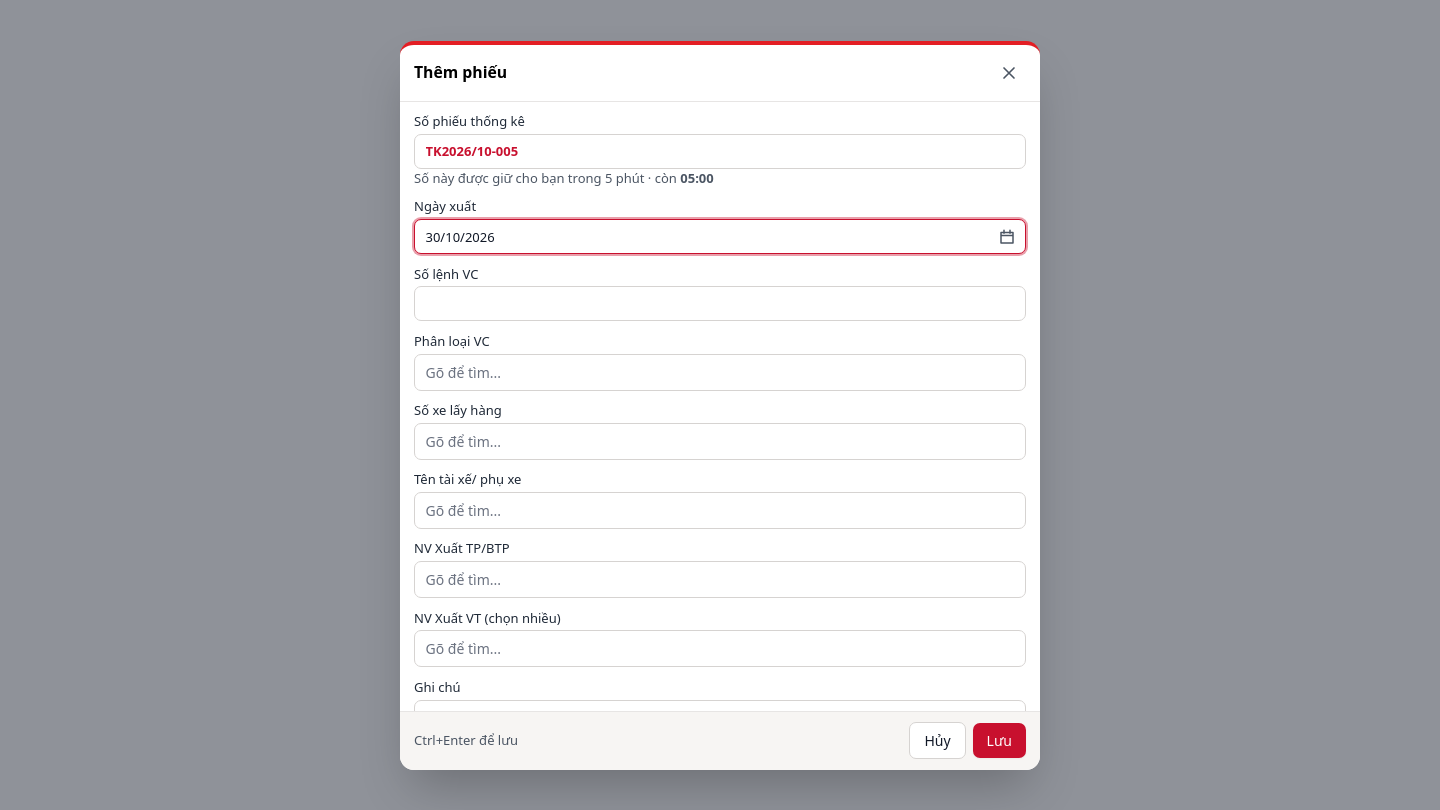
Test: PlanFormModal - tạo phiếu › chữ gõ dở ở ô chọn (chưa chọn từ danh mục) → chặn lưu
The width and height of the screenshot is (1440, 810).
Type "khong-co-xe-nay" into the dropdown with test id "vehicle" at [720, 441], box [414,423,1026,460]
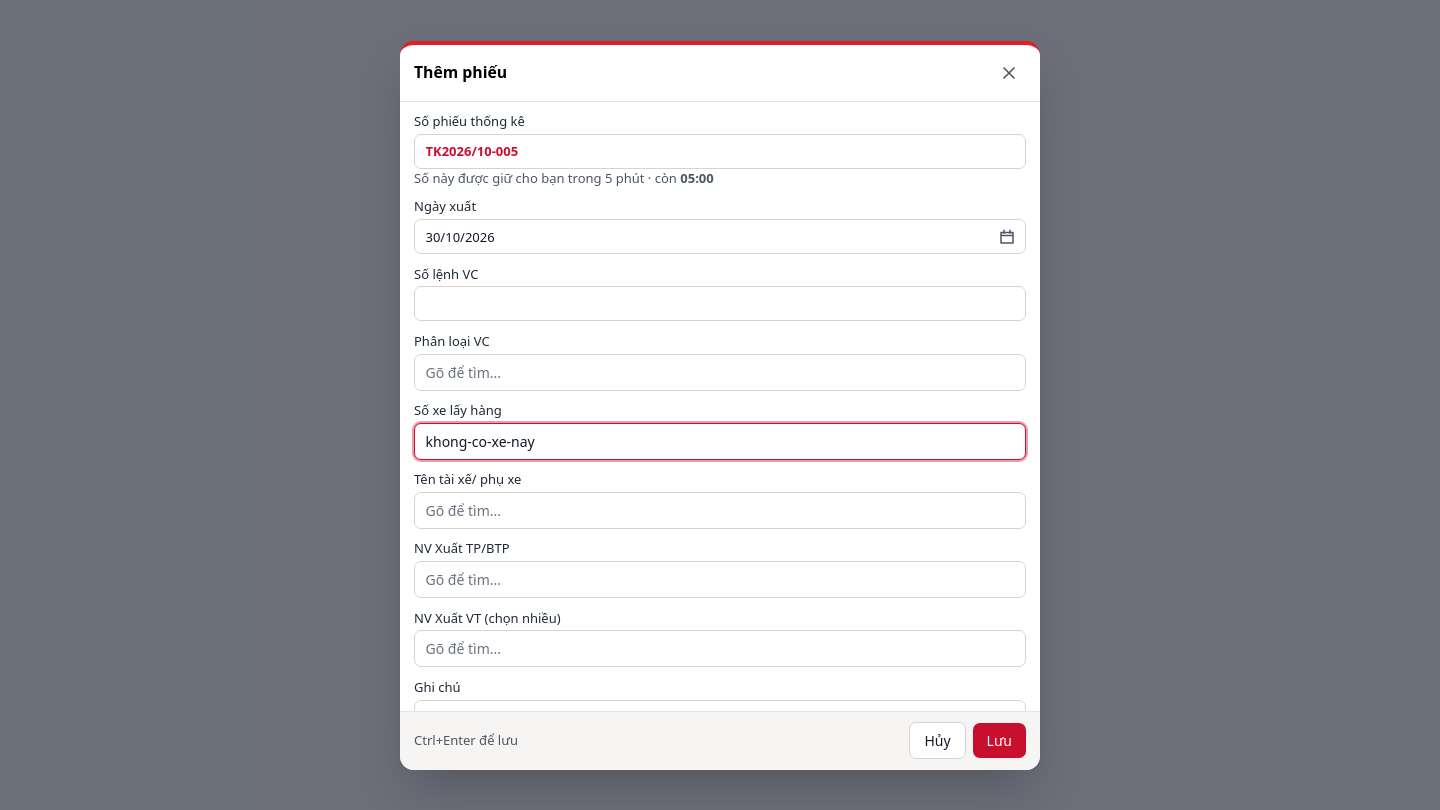
Click the button with test id "plan-save" at [999, 740], box [973,723,1026,758]
(page scrolled)
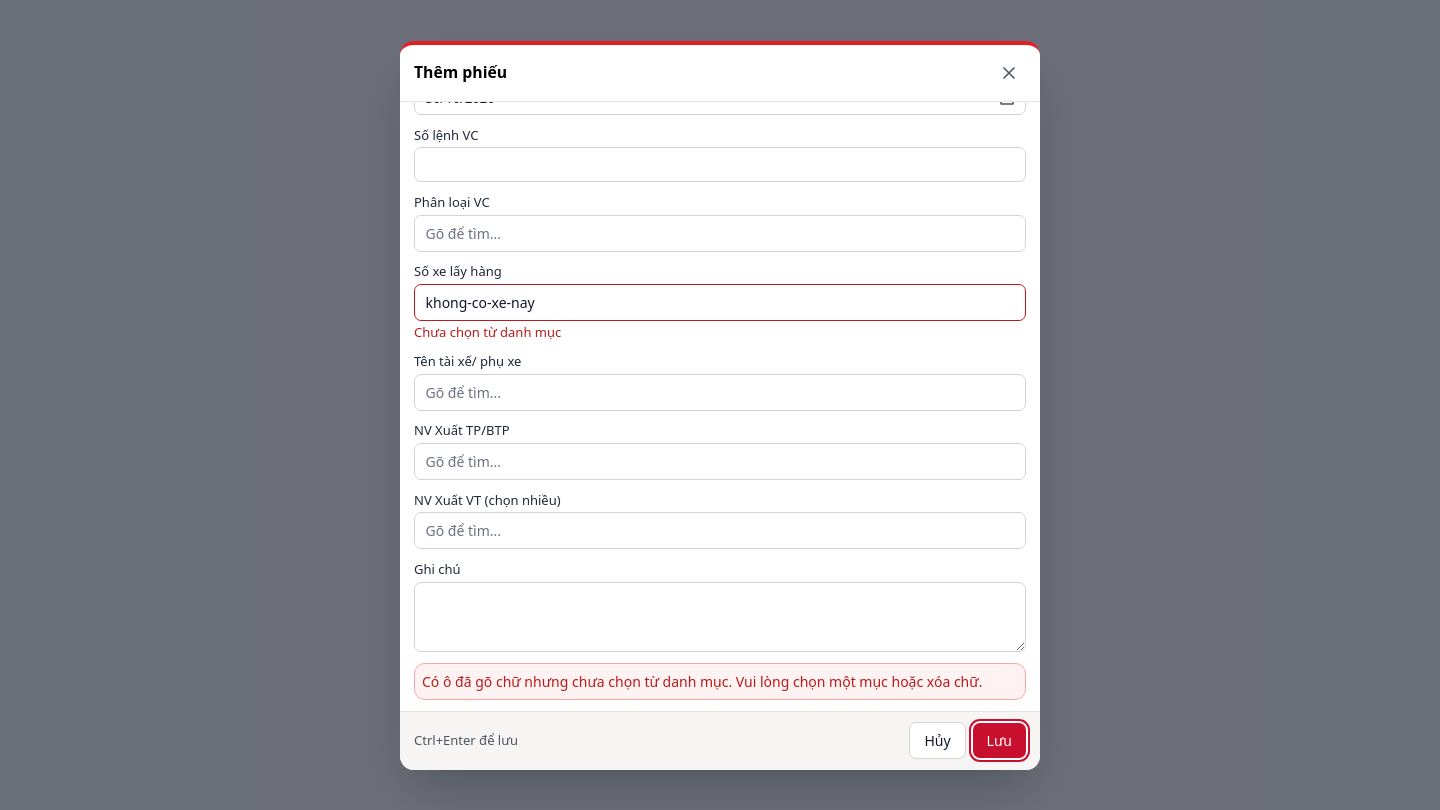
Check: the message with test id "plan-error" shows "chưa chọn từ danh mục", box [422,672,982,691]
